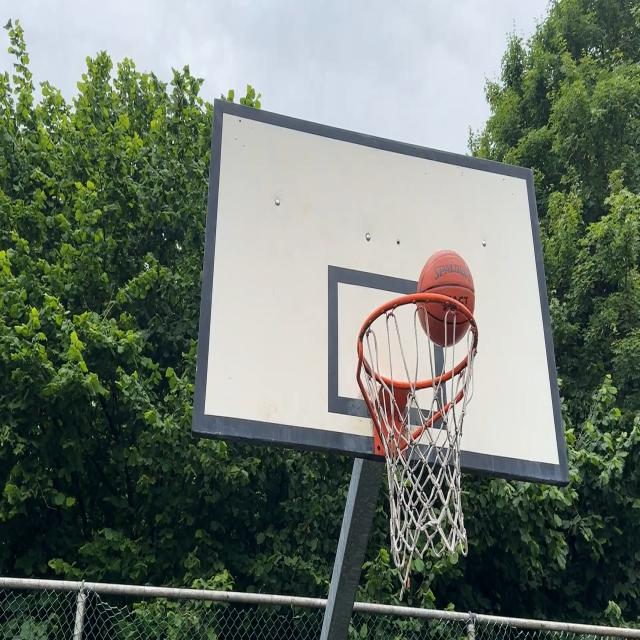rebound_hit: (417, 251, 475, 349)
